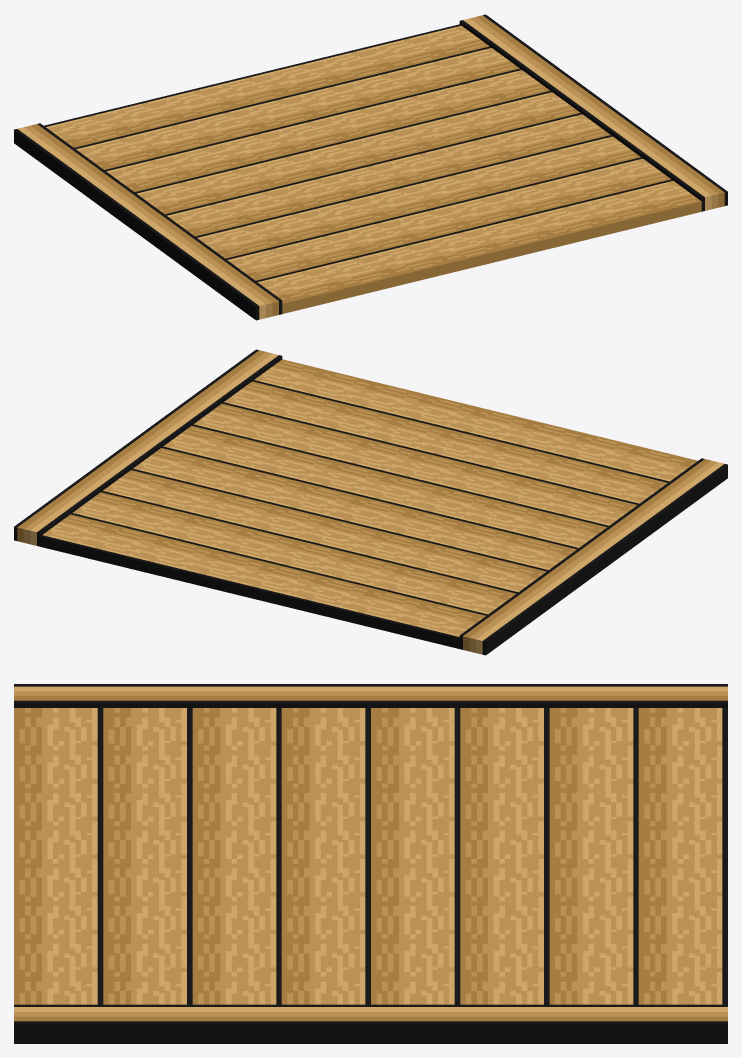
Rendered from Boardwalk8x.obj.
The picture shows the model from 3 angles, top to bottom: view 1: azimuth 30°, elevation 25°; view 2: azimuth 150°, elevation 25°; view 3: azimuth 270°, elevation 25°; orthographic projection. The views are drawn at different scales.
Size of the model in its own units: 14.4 by 0.4 by 12.8.
1 material, 1 textured.
